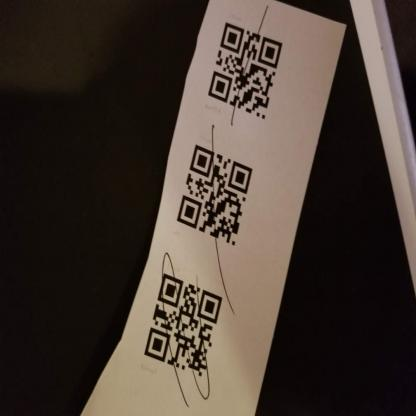qr: (171, 141, 259, 248), (204, 19, 292, 125), (141, 272, 229, 375)
